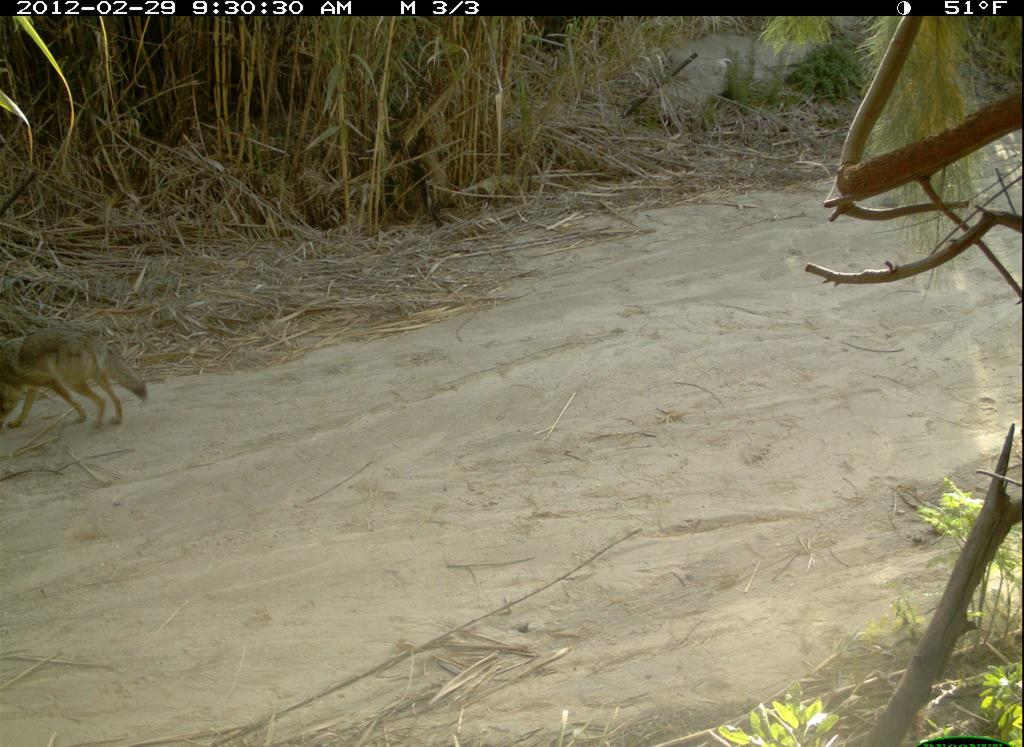coyote: (3, 312, 161, 440)
